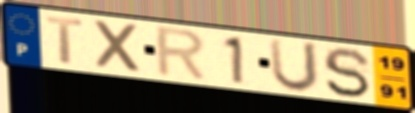1: (220, 34, 246, 86)
R: (154, 25, 210, 84)
S: (320, 45, 373, 100)
T: (44, 15, 86, 66)
U: (266, 36, 321, 95)
X: (92, 17, 145, 75)
